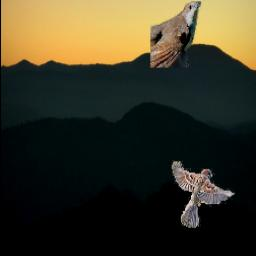Cuckoo: (150, 2, 201, 69)
Sparrow: (172, 160, 235, 228)
